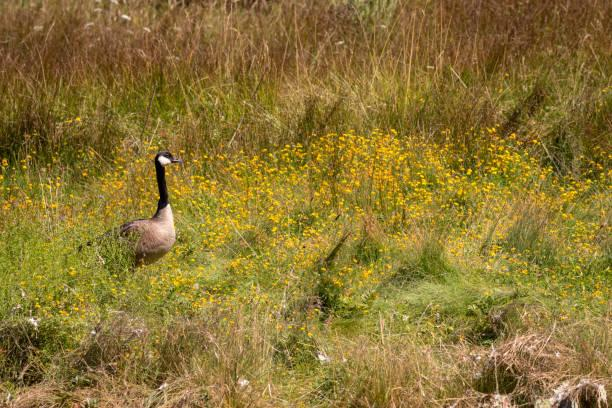Canadian-Goose: (84, 148, 183, 269)
